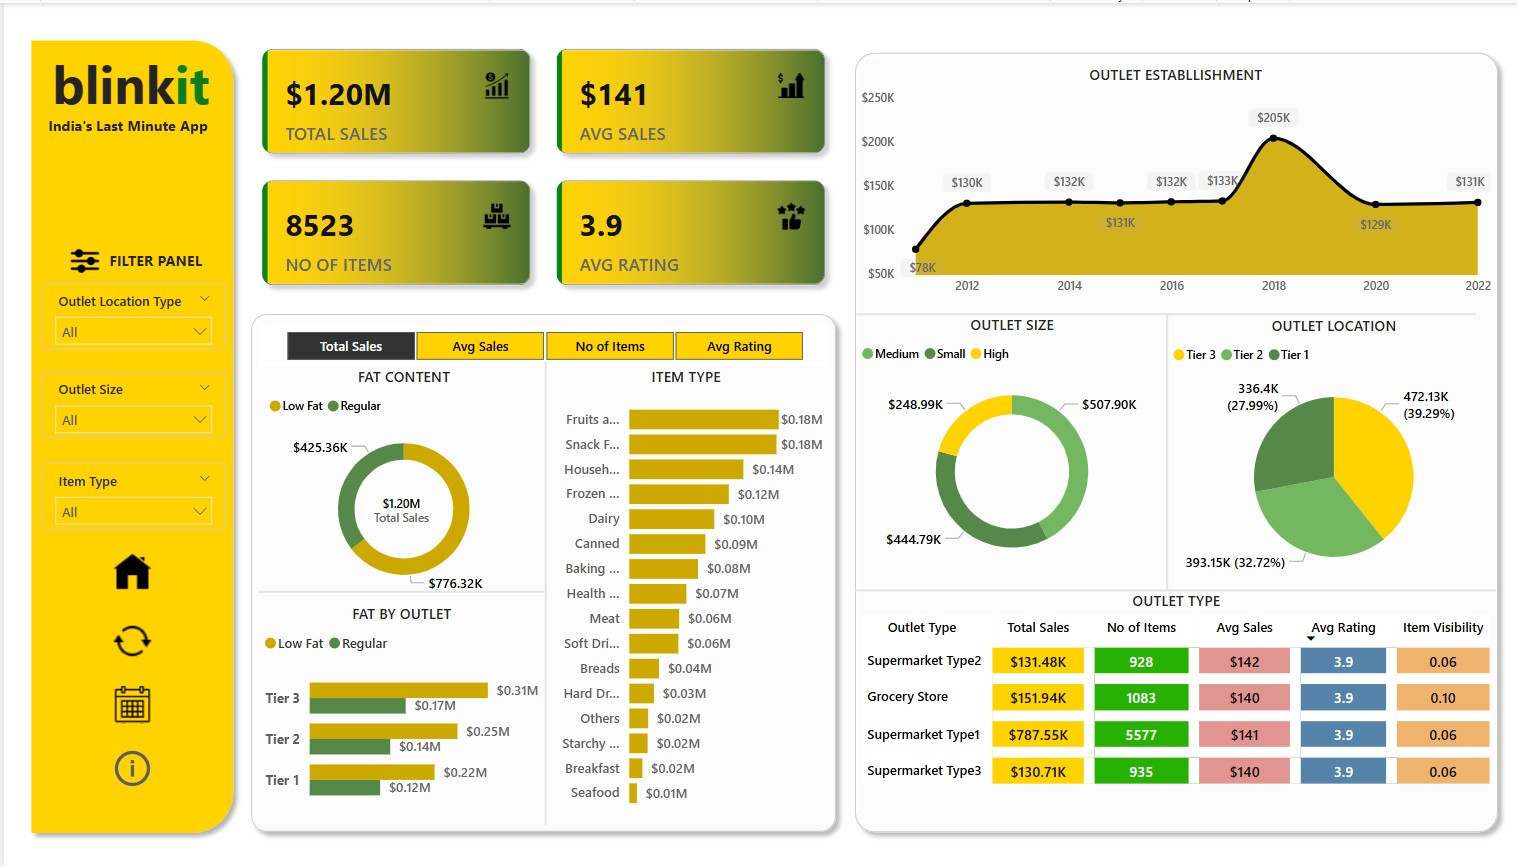

This screenshot's page, from the dashboard's own definition file:
{"tool":"powerbi","page":{"name":"Page 1","canvas":[1400,800],"ordinal":0},"visuals":[{"type":"shape","box":[16.5,25.4,204.8,750.4],"z":0},{"type":"textbox","box":[26.7,36.9,184.4,101.7],"z":1000},{"type":"textbox","box":[35.8,99.3,166.3,27.7],"z":2000},{"type":"cardVisual","fields":{"Data":["BlinkIT Grocery Data.Toatal Sales","BlinkIT Grocery Data.Avg Sales","BlinkIT Grocery Data.No of Items","BlinkIT Grocery Data.Avg Rating"]},"box":[222,25,555.5,253.5],"z":3000},{"type":"shape","box":[219.3,278.4,558.2,496.4],"z":4000},{"type":"donutChart","title":"FAT CONTENT","fields":{"Y":["BlinkIT Grocery Data.Total Sales"],"Category":["BlinkIT Grocery Data.Item Fat Content"]},"box":[240.3,336.2,258.7,218],"z":5000},{"type":"slicer","fields":{"Values":["Metrics.Metrics"]},"box":[235.1,296.8,526.6,39.4],"z":6000},{"type":"cardVisual","fields":{"Data":["BlinkIT Grocery Data.Total Sales"]},"box":[291.6,434.7,152.3,68.3],"z":7000},{"type":"clusteredBarChart","title":"FAT BY OUTLET","fields":{"Y":["BlinkIT Grocery Data.Total Sales"],"Category":["BlinkIT Grocery Data.Outlet Location Type"],"Series":["BlinkIT Grocery Data.Item Fat Content"]},"box":[235.1,554.2,264,199.6],"z":8000},{"type":"shape","box":[476.7,331,47.3,428.1],"z":9000},{"type":"shape","box":[235.1,533.2,264,21],"z":10000},{"type":"clusteredBarChart","title":"ITEM TYPE","fields":{"Category":["BlinkIT Grocery Data.Item Type"],"Y":["BlinkIT Grocery Data.Total Sales"]},"box":[499.1,336.2,262.7,417.6],"z":11000},{"type":"shape","box":[777.5,36.8,612,738.1],"z":12000},{"type":"lineChart","title":"OUTLET ESTABLLISHMENT","fields":{"Category":["BlinkIT Grocery Data.Outlet Establishment Year"],"Y":["BlinkIT Grocery Data.Total Sales"]},"box":[786.7,56.5,592.3,222],"z":13000},{"type":"shape","box":[786.7,533.2,592.3,18.4],"z":14000},{"type":"donutChart","title":"OUTLET SIZE","fields":{"Y":["BlinkIT Grocery Data.Total Sales"],"Category":["BlinkIT Grocery Data.Outlet Size"]},"box":[788,287.6,287.6,245.6],"z":15000},{"type":"shape","box":[1050.7,287.6,47.3,256.1],"z":16000},{"type":"shape","box":[788,278.4,572.6,18.4],"z":17000},{"type":"pieChart","title":"OUTLET LOCATION","fields":{"Category":["BlinkIT Grocery Data.Outlet Location Type"],"Y":["Sum(BlinkIT Grocery Data.Sales)"]},"box":[1075.6,288.9,307.3,253.5],"z":18000},{"type":"pivotTable","title":"OUTLET TYPE","fields":{"Values":["BlinkIT Grocery Data.Total Sales","BlinkIT Grocery Data.No of Items","BlinkIT Grocery Data.Avg Sales","BlinkIT Grocery Data.Avg Rating","Avg(BlinkIT Grocery Data.Item Visibility)"],"Rows":["BlinkIT Grocery Data.Outlet Type"]},"box":[788,542.4,591,211.4],"z":19000},{"type":"slicer","fields":{"Values":["BlinkIT Grocery Data.Outlet Location Type"]},"box":[34.1,258.7,170.7,60.4],"z":20000},{"type":"slicer","fields":{"Values":["BlinkIT Grocery Data.Outlet Size"]},"box":[34.1,340.2,170.7,60.4],"z":21000},{"type":"slicer","fields":{"Values":["BlinkIT Grocery Data.Item Type"]},"box":[34.1,425.5,170.7,60.4],"z":22000},{"type":"actionButton","box":[91.9,501.7,52.5,49.9],"z":22500},{"type":"textbox","box":[91.9,224.6,112.9,28.9],"z":23000},{"type":"actionButton","box":[91.9,564.7,52.5,49.9],"z":25000},{"type":"actionButton","box":[91.9,623.8,52.5,49.9],"z":26000},{"type":"actionButton","box":[91.9,682.9,52.5,49.9],"z":27000},{"type":"actionButton","box":[48.6,214.1,52.5,49.9],"z":28000}]}

Visuals, with their boxes in screenshot pixels (x1, y1, x2, y2), scaled from the page's 1400x800 canvas onto the 1517x867 screenshot:
shape: BBox(18, 28, 240, 841)
textbox: BBox(29, 40, 229, 150)
textbox: BBox(39, 108, 219, 138)
cardVisual - BlinkIT Grocery Data.Toatal Sales x BlinkIT Grocery Data.Avg Sales: BBox(241, 27, 842, 302)
shape: BBox(238, 302, 842, 840)
"FAT CONTENT" donutChart: BBox(260, 364, 541, 601)
slicer - Metrics.Metrics: BBox(255, 322, 825, 364)
cardVisual - BlinkIT Grocery Data.Total Sales: BBox(316, 471, 481, 545)
"FAT BY OUTLET" clusteredBarChart: BBox(255, 601, 541, 817)
shape: BBox(517, 359, 568, 823)
shape: BBox(255, 578, 541, 601)
"ITEM TYPE" clusteredBarChart: BBox(541, 364, 825, 817)
shape: BBox(842, 40, 1506, 840)
"OUTLET ESTABLLISHMENT" lineChart: BBox(852, 61, 1494, 302)
shape: BBox(852, 578, 1494, 598)
"OUTLET SIZE" donutChart: BBox(854, 312, 1165, 578)
shape: BBox(1139, 312, 1190, 589)
shape: BBox(854, 302, 1474, 322)
"OUTLET LOCATION" pieChart: BBox(1165, 313, 1498, 588)
"OUTLET TYPE" pivotTable: BBox(854, 588, 1494, 817)
slicer - BlinkIT Grocery Data.Outlet Location Type: BBox(37, 280, 222, 346)
slicer - BlinkIT Grocery Data.Outlet Size: BBox(37, 369, 222, 434)
slicer - BlinkIT Grocery Data.Item Type: BBox(37, 461, 222, 527)
actionButton: BBox(100, 544, 156, 598)
textbox: BBox(100, 243, 222, 275)
actionButton: BBox(100, 612, 156, 666)
actionButton: BBox(100, 676, 156, 730)
actionButton: BBox(100, 740, 156, 794)
actionButton: BBox(53, 232, 110, 286)
